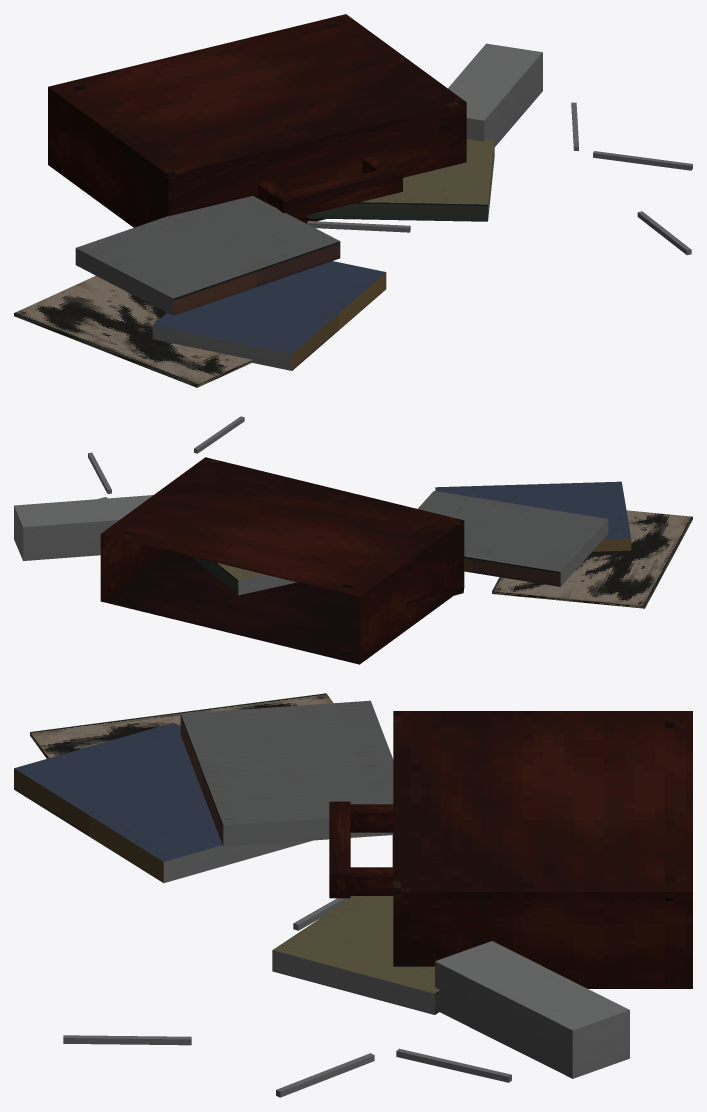
File: prop_bag-kaban-0-3.glb
3 renders of one model, top to bottom at view 1: azimuth 30°, elevation 25°; view 2: azimuth 150°, elevation 25°; view 3: azimuth 270°, elevation 25°, orthographic. The views are drawn at different scales.
Visible parts, largest first — view 1: prop_bag-kaban-0-3; view 2: prop_bag-kaban-0-3; view 3: prop_bag-kaban-0-3.
Part boxes in pixels (bbox=[...]): prop_bag-kaban-0-3: bbox=[14, 14, 692, 387]; prop_bag-kaban-0-3: bbox=[14, 416, 692, 664]; prop_bag-kaban-0-3: bbox=[14, 693, 692, 1097].
Size of the model in its own units: 0.8858 by 0.111 by 0.6346.
9 materials, 9 textured.
